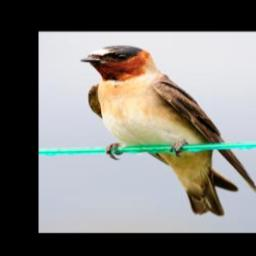Swallow: (79, 44, 256, 217)
